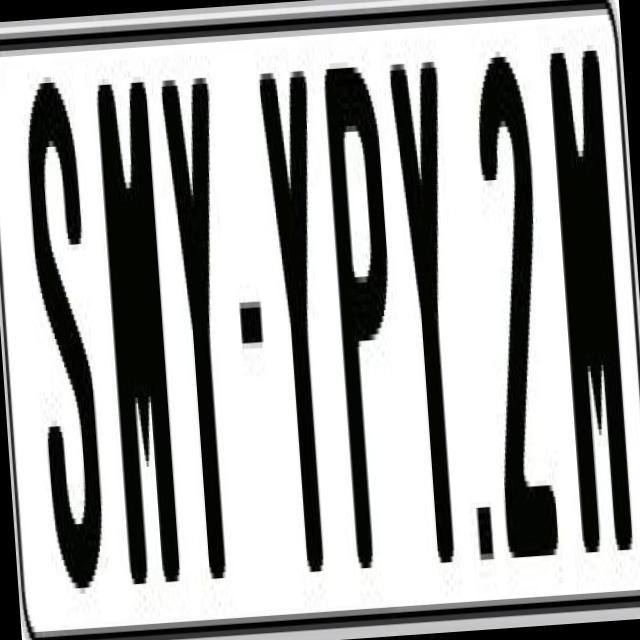2: (469, 43, 561, 547)
M: (94, 76, 182, 614), (542, 39, 628, 552)
P: (320, 60, 410, 580)
S: (18, 70, 104, 590)
Y: (156, 76, 248, 610), (386, 43, 472, 570), (254, 64, 337, 590)
